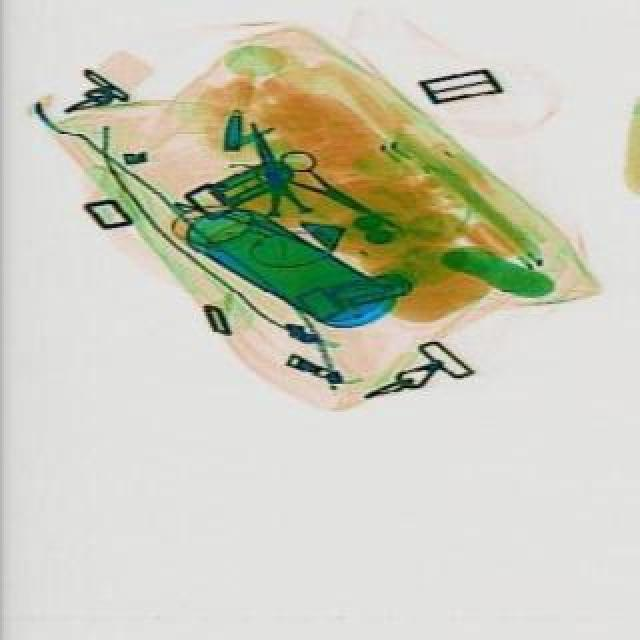pliers: (256, 142, 406, 254)
